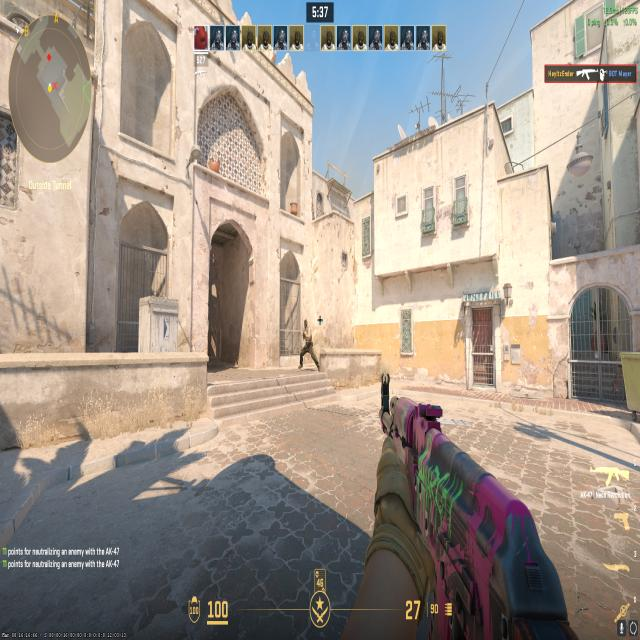t: (298, 319, 321, 372)
